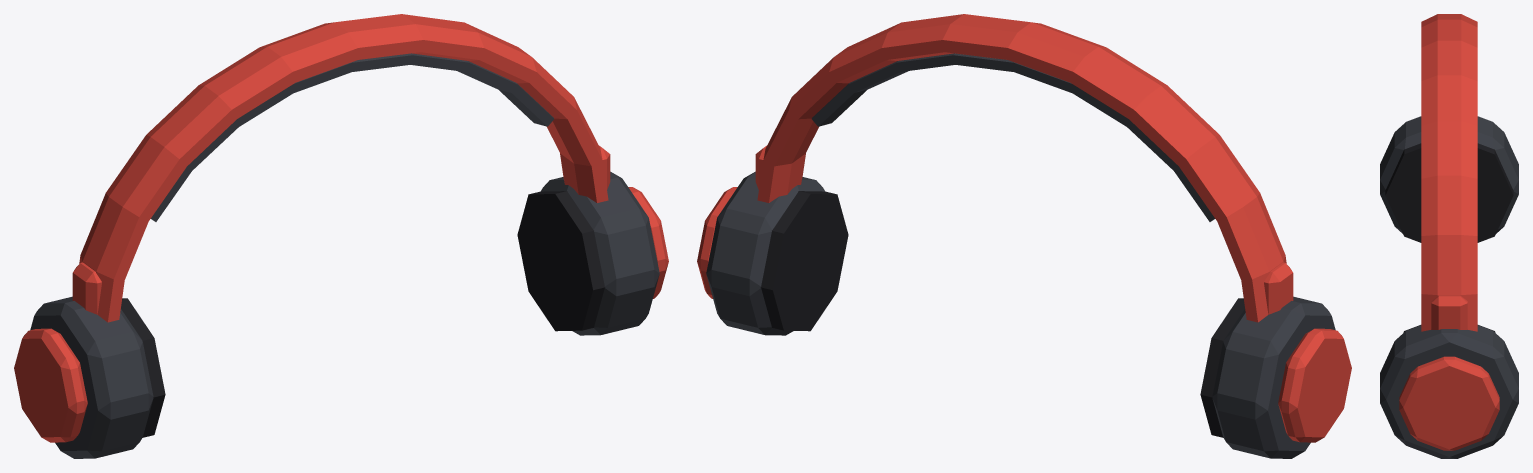
The model's file is headphones.glb.
The picture shows the model from 3 angles, left to right: view 1: azimuth 30°, elevation 25°; view 2: azimuth 150°, elevation 25°; view 3: azimuth 270°, elevation 25°; orthographic projection. The views are drawn at different scales.
Visible parts, largest first — view 1: headphones; view 2: headphones; view 3: headphones.
Part boxes in pixels (bbox=[...]): headphones: bbox=[14, 14, 668, 458]; headphones: bbox=[697, 14, 1351, 458]; headphones: bbox=[1380, 14, 1518, 458].
Size of the model in its own units: 0.8057 by 0.4639 by 0.1908.
